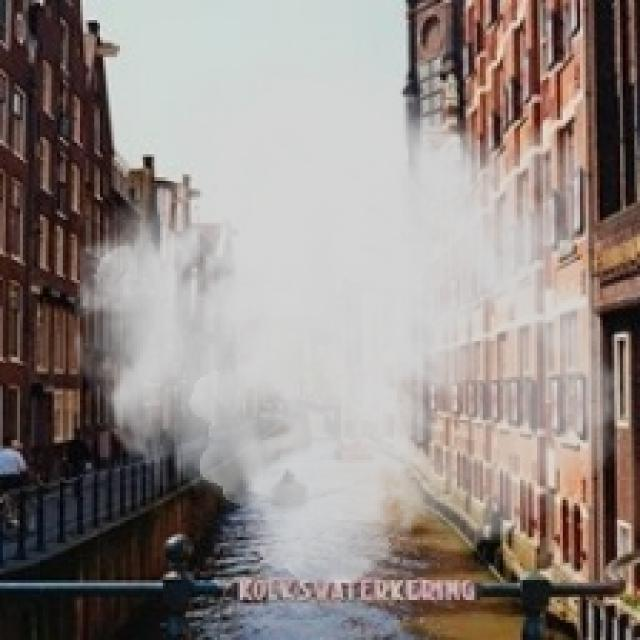smoke: (66, 20, 631, 586)
